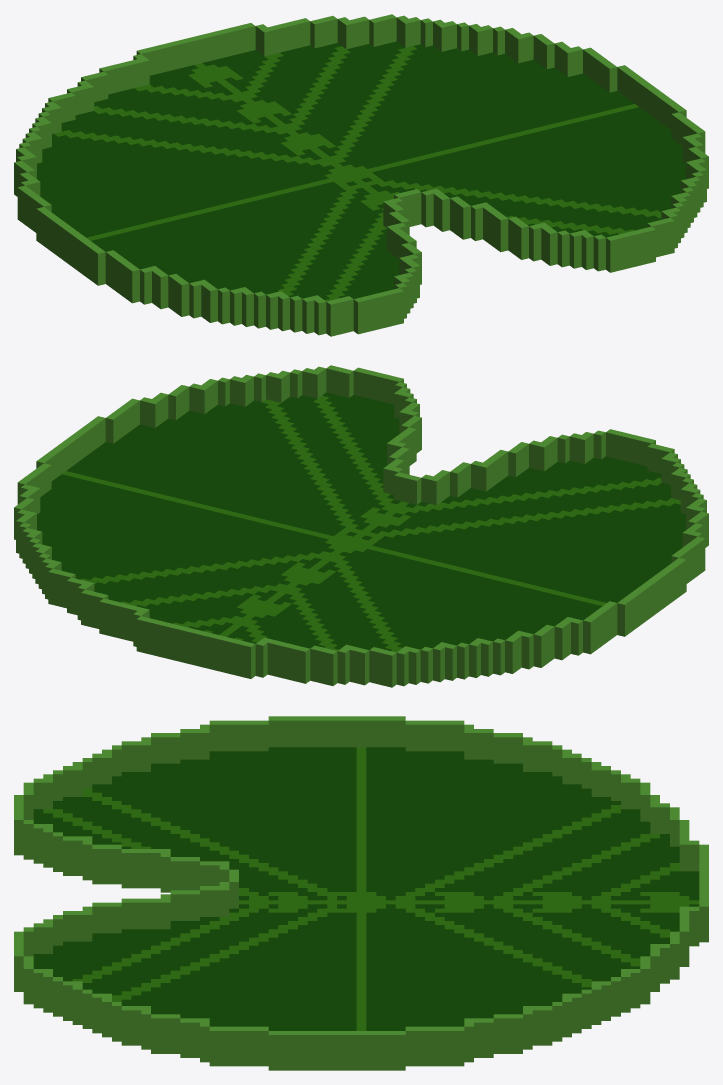
File: VitRegia2.fbx
3 renders of one model, top to bottom at view 1: azimuth 30°, elevation 25°; view 2: azimuth 150°, elevation 25°; view 3: azimuth 270°, elevation 25°, orthographic. The views are drawn at different scales.
Parts seen in each view (by area): view 1: Vegetacao.007; view 2: Vegetacao.007; view 3: Vegetacao.007.
Boxes of the visible parts, bbox=[...] form: Vegetacao.007: bbox=[14, 14, 708, 336]; Vegetacao.007: bbox=[14, 365, 708, 687]; Vegetacao.007: bbox=[14, 716, 708, 1070].
Size of the model in its own units: 7700 by 400 by 7100.
